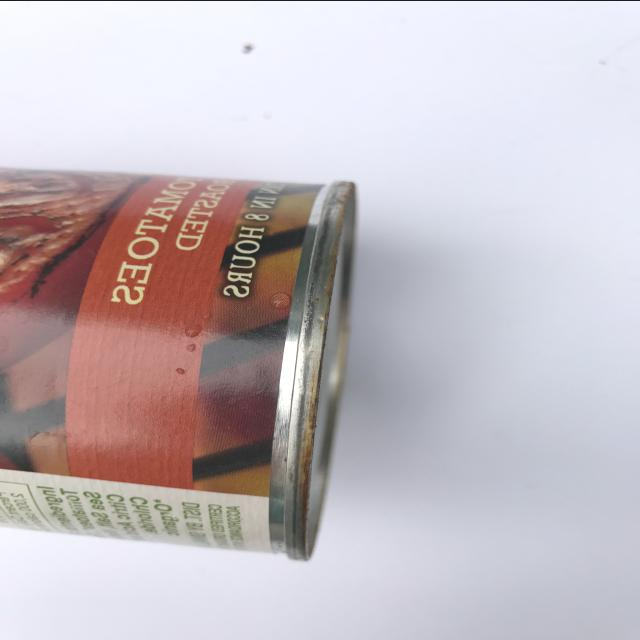Metal: (1, 154, 365, 576)
